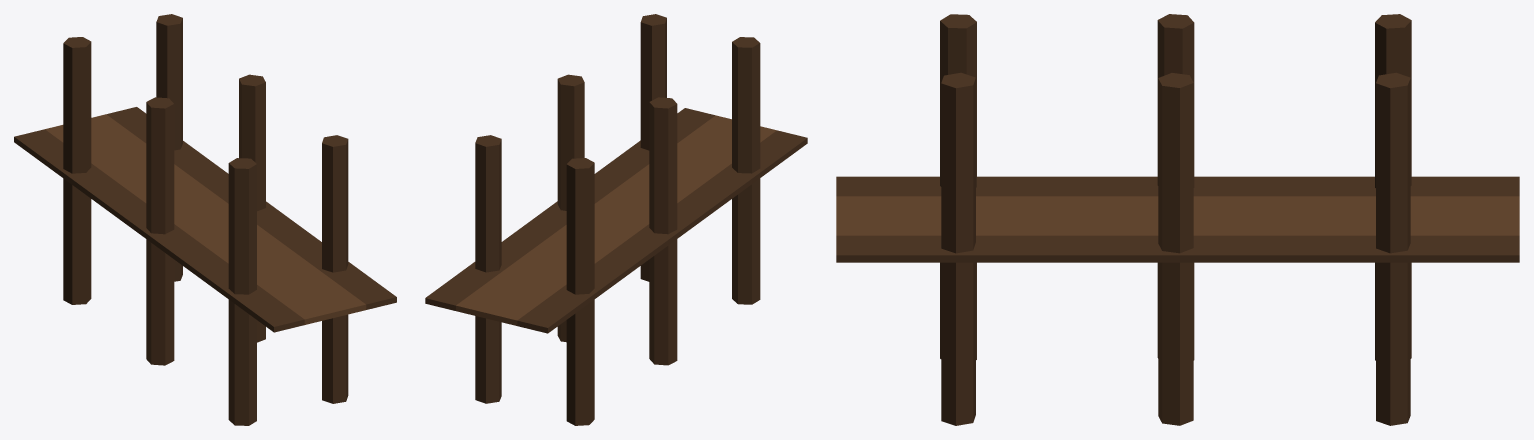
Rendered from Bridge_6_Dark_Brown.fbx.
The picture shows the model from 3 angles, left to right: view 1: azimuth 30°, elevation 25°; view 2: azimuth 150°, elevation 25°; view 3: azimuth 270°, elevation 25°; orthographic projection. The views are drawn at different scales.
Parts seen in each view (by area): view 1: Bridge_6_Dark_Brown_Part_1, Bridge_6_Dark_Brown_Part_2, Bridge_6_Dark_Brown_Part_6, Bridge_6_Dark_Brown_Part_4, Bridge_6_Dark_Brown_Part_3, Bridge_6_Dark_Brown_Part_5, Bridge_6_Dark_Brown_Part_7; view 2: Bridge_6_Dark_Brown_Part_1, Bridge_6_Dark_Brown_Part_2, Bridge_6_Dark_Brown_Part_4, Bridge_6_Dark_Brown_Part_6, Bridge_6_Dark_Brown_Part_7, Bridge_6_Dark_Brown_Part_5, Bridge_6_Dark_Brown_Part_3; view 3: Bridge_6_Dark_Brown_Part_1, Bridge_6_Dark_Brown_Part_5, Bridge_6_Dark_Brown_Part_3, Bridge_6_Dark_Brown_Part_7, Bridge_6_Dark_Brown_Part_4, Bridge_6_Dark_Brown_Part_6, Bridge_6_Dark_Brown_Part_2.
Part boxes in pixels (box(x1,y1,x2,y2)): Bridge_6_Dark_Brown_Part_1: box(14, 107, 396, 332); Bridge_6_Dark_Brown_Part_2: box(228, 158, 256, 425); Bridge_6_Dark_Brown_Part_6: box(63, 37, 91, 304); Bridge_6_Dark_Brown_Part_4: box(146, 97, 174, 365); Bridge_6_Dark_Brown_Part_3: box(322, 135, 348, 403); Bridge_6_Dark_Brown_Part_5: box(239, 74, 265, 342); Bridge_6_Dark_Brown_Part_7: box(156, 14, 182, 281); Bridge_6_Dark_Brown_Part_1: box(425, 108, 807, 333); Bridge_6_Dark_Brown_Part_2: box(732, 37, 760, 304); Bridge_6_Dark_Brown_Part_4: box(649, 97, 677, 365); Bridge_6_Dark_Brown_Part_6: box(566, 158, 594, 425); Bridge_6_Dark_Brown_Part_7: box(475, 135, 501, 403); Bridge_6_Dark_Brown_Part_5: box(557, 74, 584, 342); Bridge_6_Dark_Brown_Part_3: box(640, 14, 666, 281); Bridge_6_Dark_Brown_Part_1: box(836, 176, 1519, 262); Bridge_6_Dark_Brown_Part_5: box(1158, 73, 1193, 425); Bridge_6_Dark_Brown_Part_3: box(941, 72, 975, 425); Bridge_6_Dark_Brown_Part_7: box(1376, 72, 1410, 425); Bridge_6_Dark_Brown_Part_4: box(1157, 14, 1194, 360); Bridge_6_Dark_Brown_Part_6: box(1375, 14, 1411, 360); Bridge_6_Dark_Brown_Part_2: box(940, 14, 976, 359).
Size of the model in its own units: 300 by 600 by 1100.
